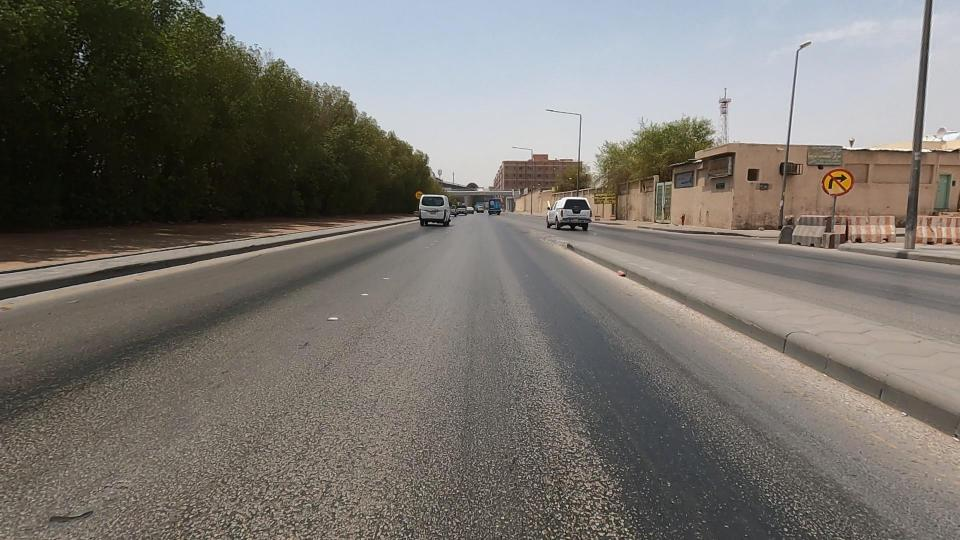BAD_BILLBOARD: (671, 125, 765, 204), (783, 119, 867, 186), (652, 156, 720, 203)
FADED_SIGNAGE: (794, 162, 870, 206)
GARBAGE: (599, 246, 646, 293)
